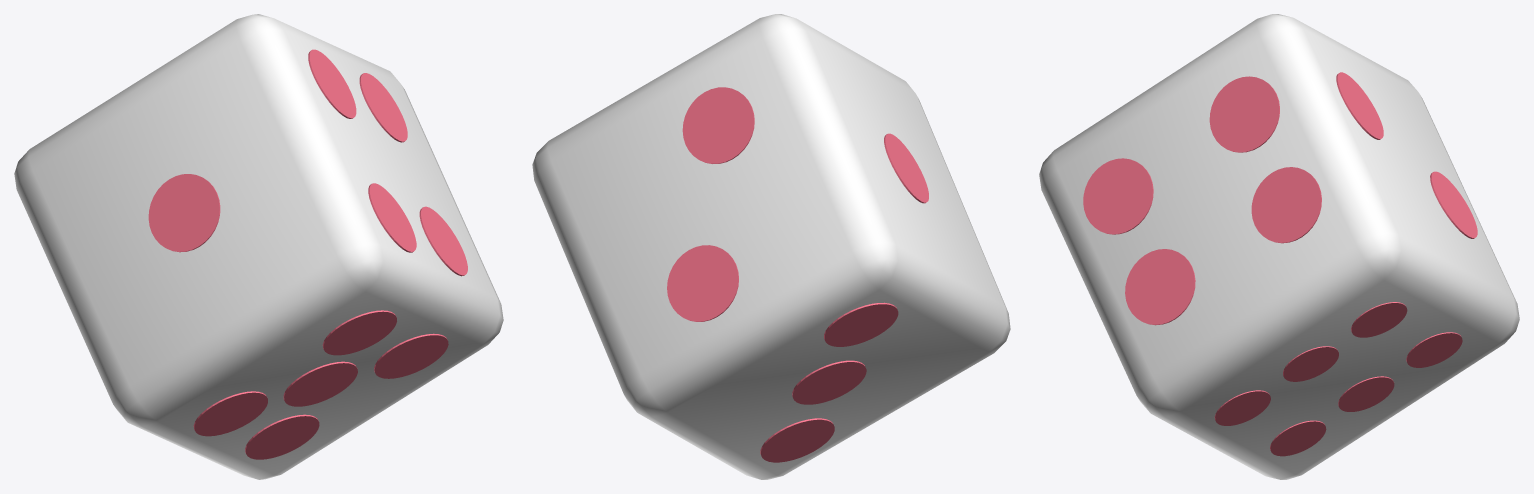
File: Dice.fbx
3 renders of one model, left to right at view 1: azimuth 30°, elevation 25°; view 2: azimuth 150°, elevation 25°; view 3: azimuth 270°, elevation 25°, orthographic.
Parts seen in each view (by area): view 1: Circle.002; view 2: Circle.002; view 3: Circle.002.
Part boxes in pixels (bbox=[...]): Circle.002: bbox=[14, 14, 503, 479]; Circle.002: bbox=[532, 14, 1010, 479]; Circle.002: bbox=[1039, 14, 1519, 479].
Bounding box in the file's own units: 269 × 314 × 300.
